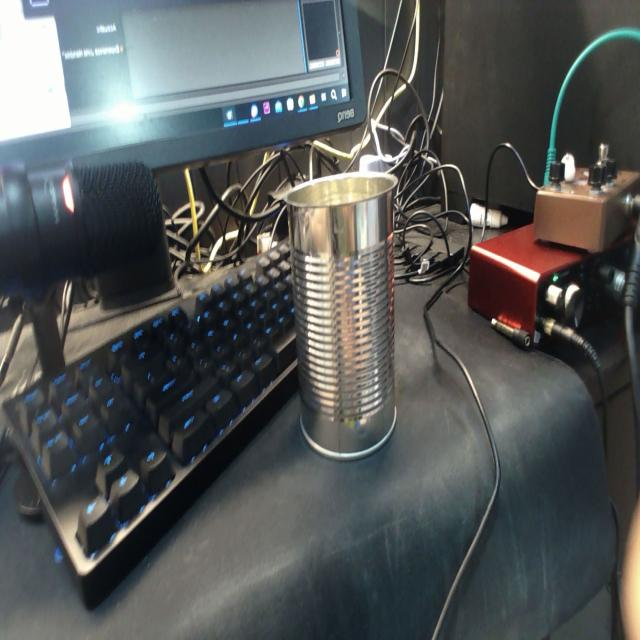metal: (286, 161, 396, 466)
